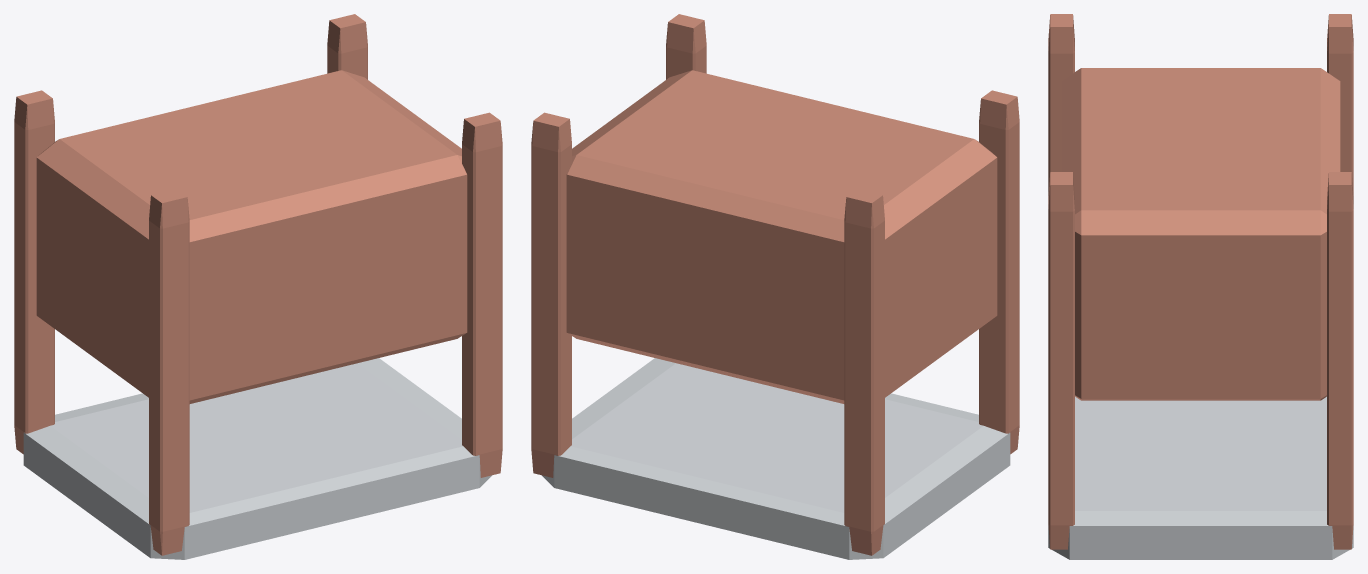
Rendered from b07_masonry_cutoff_saw_bench.glb.
3 views of the same model, side by side, from view 1: azimuth 30°, elevation 25°; view 2: azimuth 150°, elevation 25°; view 3: azimuth 270°, elevation 25° (orthographic). The views are drawn at different scales.
Parts seen in each view (by area): view 1: b07_masonry_cutoff_saw_bench; view 2: b07_masonry_cutoff_saw_bench; view 3: b07_masonry_cutoff_saw_bench.
Part boxes in pixels (x1,y1,x2,y2): b07_masonry_cutoff_saw_bench: (14, 14, 502, 559); b07_masonry_cutoff_saw_bench: (531, 14, 1019, 559); b07_masonry_cutoff_saw_bench: (1048, 14, 1353, 559).
Size of the model in its own units: 1.55 by 1.57 by 1.15.
